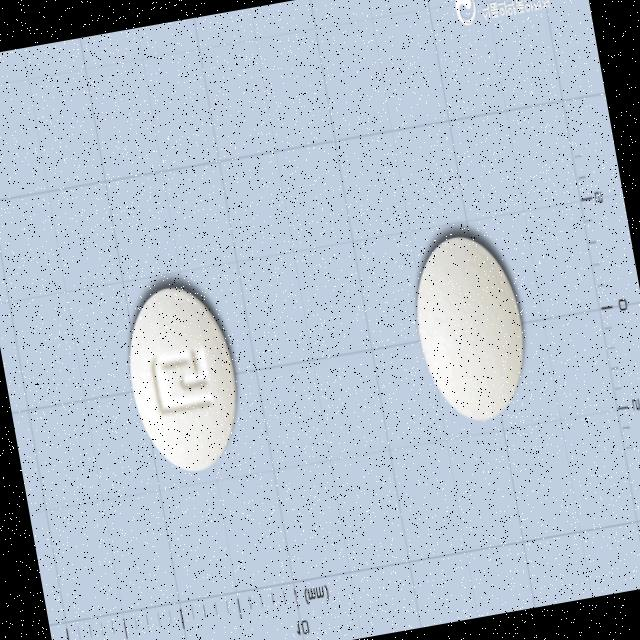Lefexin: (402, 226, 538, 429), (116, 279, 252, 480)
